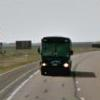Bus: (36, 33, 78, 79)
